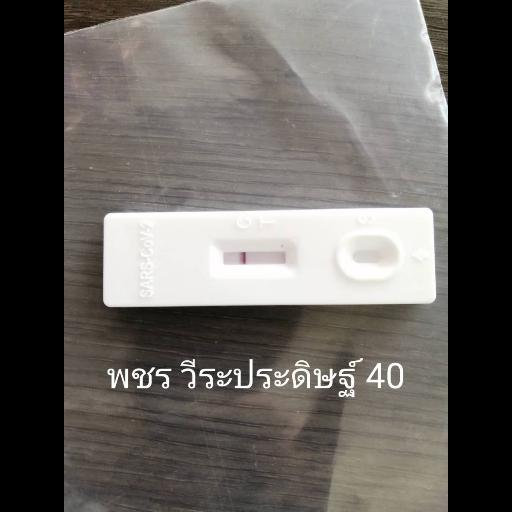Neg: (104, 206, 434, 308)
